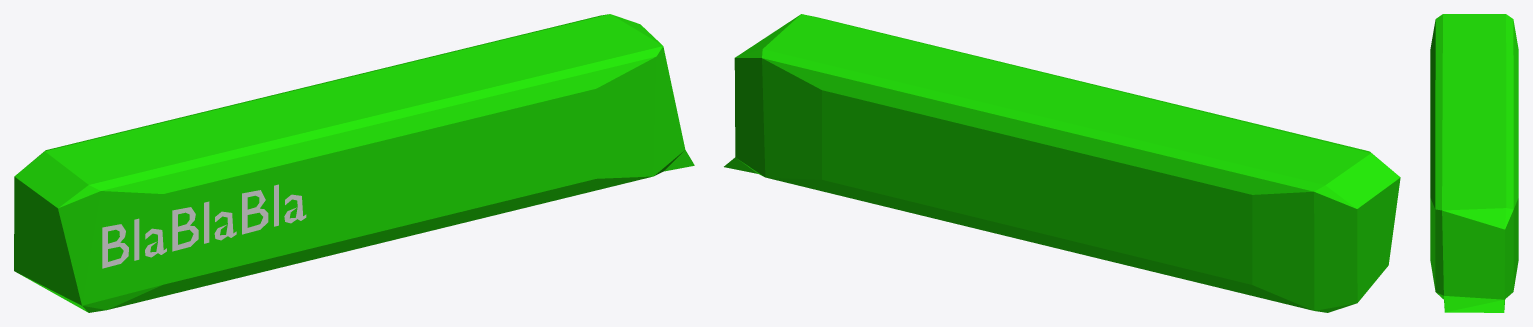
File: message1.fbx
3 renders of one model, left to right at view 1: azimuth 30°, elevation 25°; view 2: azimuth 150°, elevation 25°; view 3: azimuth 270°, elevation 25°, orthographic. The views are drawn at different scales.
Visible parts, largest first — view 1: Cube.009; view 2: Cube.009; view 3: Cube.009.
Boxes of the visible parts, x1,y1,x2,y2 form: Cube.009: [14, 14, 694, 312]; Cube.009: [724, 14, 1400, 312]; Cube.009: [1430, 14, 1518, 312].
Size of the model in its own units: 269 by 52.57 by 46.46.
